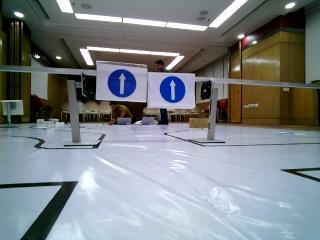straight: (96, 60, 146, 104), (147, 71, 193, 106)
